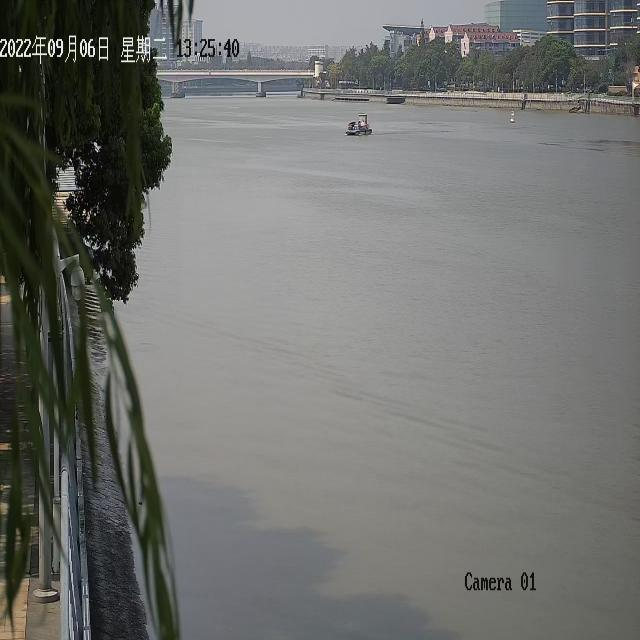ship: (345, 112, 371, 134)
